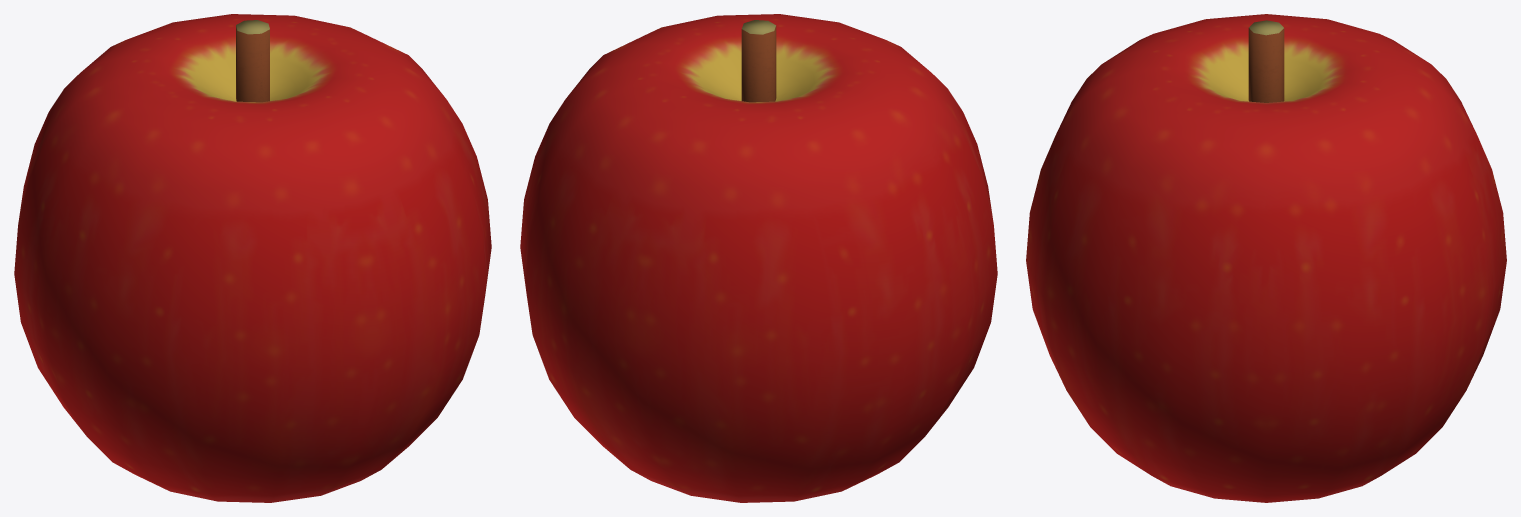
File: apple.glb
3 renders of one model, left to right at view 1: azimuth 30°, elevation 25°; view 2: azimuth 150°, elevation 25°; view 3: azimuth 270°, elevation 25°, orthographic.
Visible parts, largest first — view 1: apple; view 2: apple; view 3: apple.
Boxes of the visible parts, bbox=[...] form: apple: bbox=[14, 14, 491, 502]; apple: bbox=[520, 14, 997, 502]; apple: bbox=[1026, 14, 1506, 502].
Bounding box in the file's own units: 0.089 × 0.0874 × 0.089.
1 material, 1 textured.
